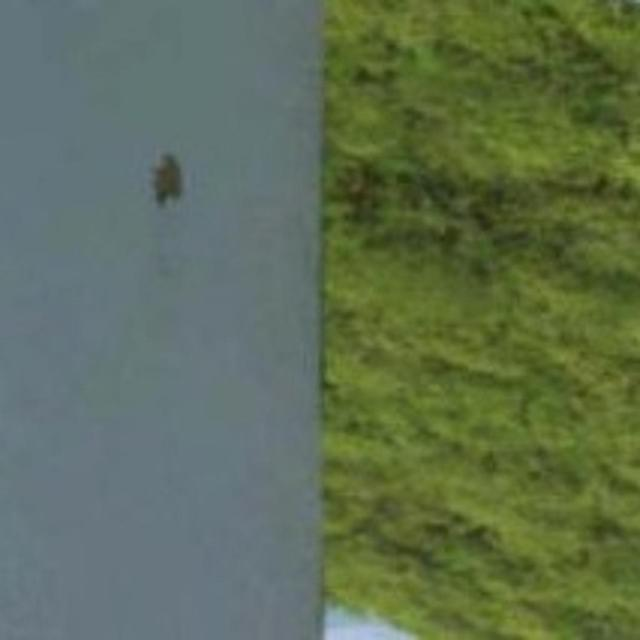surface_peeling: (148, 144, 193, 207)
